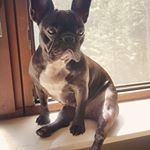puppy: (26, 1, 121, 146)
